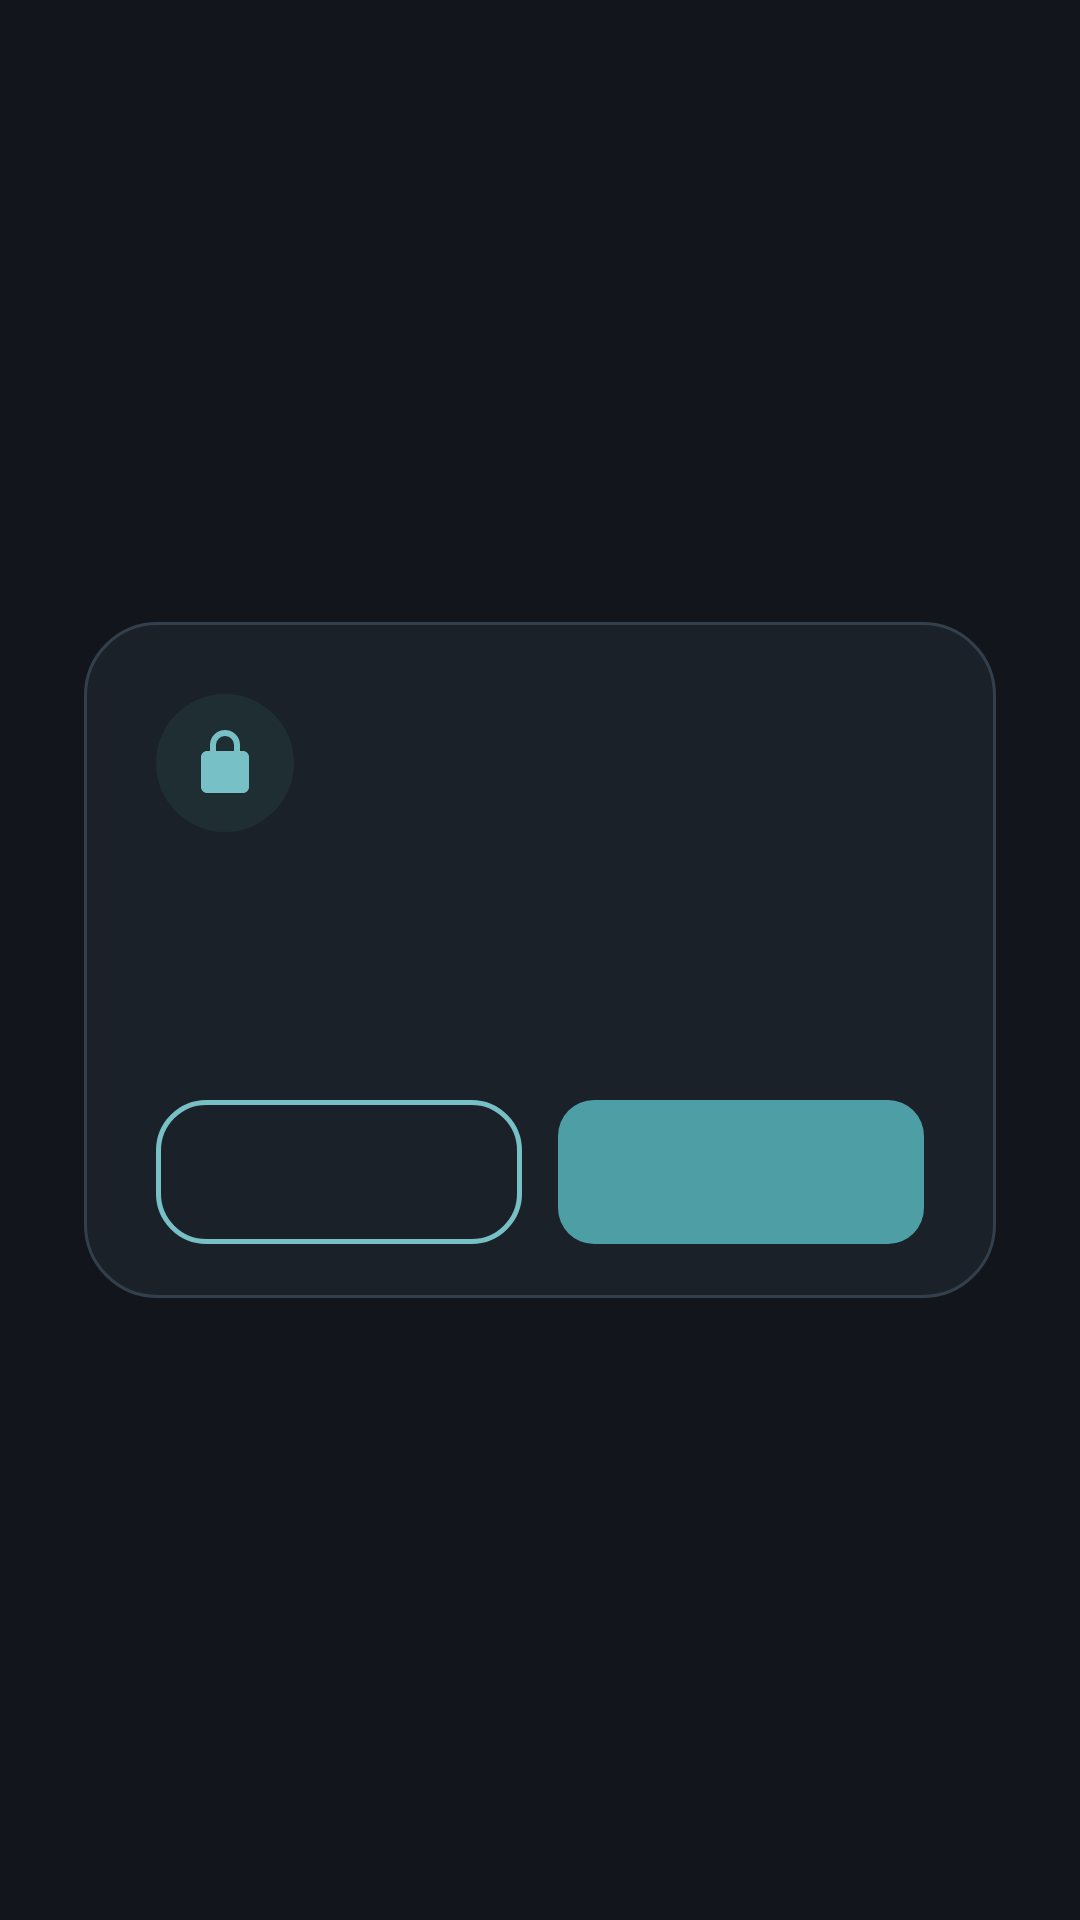

Icons on this 1080x1920 Android screen, each with the point to tap as [x,y]:
lock: [225,761]
